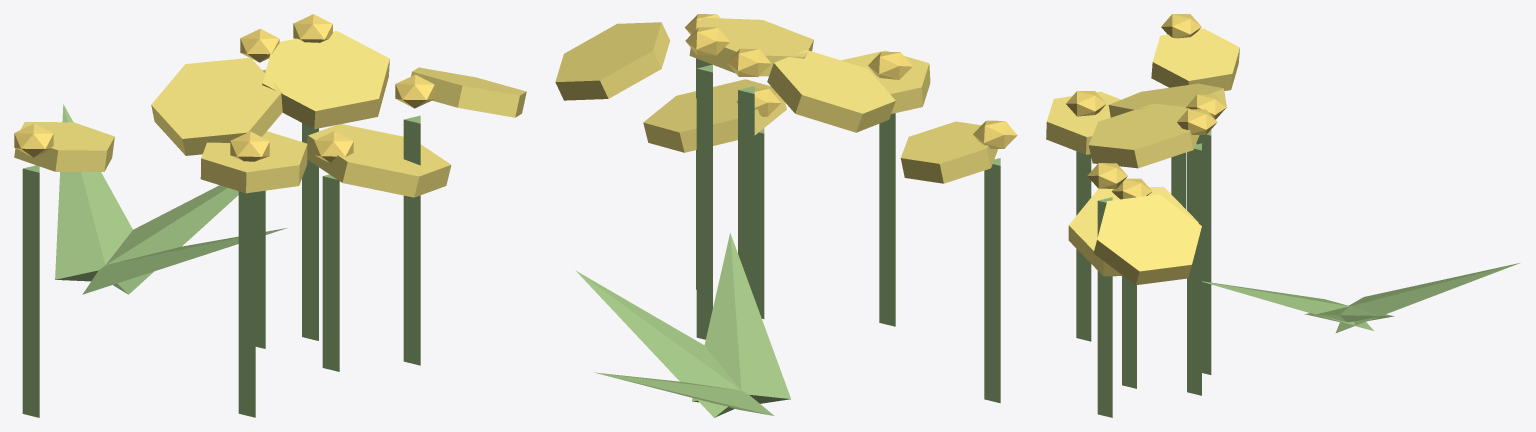
The model's file is flor_amarela_0.fbx.
3 views of the same model, side by side, from view 1: azimuth 30°, elevation 25°; view 2: azimuth 150°, elevation 25°; view 3: azimuth 270°, elevation 25° (orthographic). The views are drawn at different scales.
Parts seen in each view (by area): view 1: flor_amarela_0~Pétalas 1@petalyellow, flor_amarela_0~Pétalas 3@petalyellow, flor_amarela_0~Folha 2@stem, flor_amarela_0~Pétalas 2@petalyellow, flor_amarela_0~Haste 4@stem, flor_amarela_0~Pétalas 0@petalyellow, flor_amarela_0~Folha 0@stem, flor_amarela_0~Haste 0@stem, flor_amarela_0~Haste 5@stem, flor_amarela_0~Haste 2@stem, flor_amarela_0~Pétalas 4@petalyellow, flor_amarela_0~Pétalas 5@petalyellow (+9 smaller); view 2: flor_amarela_0~Folha 1@stem, flor_amarela_0~Pétalas 3@petalyellow, flor_amarela_0~Pétalas 5@petalyellow, flor_amarela_0~Folha 0@stem, flor_amarela_0~Pétalas 2@petalyellow, flor_amarela_0~Haste 1@stem, flor_amarela_0~Pétalas 4@petalyellow, flor_amarela_0~Haste 4@stem, flor_amarela_0~Haste 0@stem, flor_amarela_0~Pétalas 1@petalyellow, flor_amarela_0~Haste 3@stem, flor_amarela_0~Folha 2@stem (+7 smaller); view 3: flor_amarela_0~Pétalas 5@petalyellow, flor_amarela_0~Pétalas 1@petalyellow, flor_amarela_0~Pétalas 4@petalyellow, flor_amarela_0~Haste 1@stem, flor_amarela_0~Haste 5@stem, flor_amarela_0~Haste 3@stem, flor_amarela_0~Folha 2@stem, flor_amarela_0~Pétalas 0@petalyellow, flor_amarela_0~Pétalas 2@petalyellow, flor_amarela_0~Haste 0@stem, flor_amarela_0~Pétalas 3@petalyellow, flor_amarela_0~Haste 2@stem (+9 smaller).
Boxes of the visible parts, x1,y1,x2,y2 form: flor_amarela_0~Pétalas 1@petalyellow: (262,31,389,129); flor_amarela_0~Pétalas 3@petalyellow: (151,57,282,155); flor_amarela_0~Folha 2@stem: (55,104,132,281); flor_amarela_0~Pétalas 2@petalyellow: (306,124,451,197); flor_amarela_0~Haste 4@stem: (22,165,39,417); flor_amarela_0~Pétalas 0@petalyellow: (200,131,307,193); flor_amarela_0~Folha 0@stem: (106,185,238,294); flor_amarela_0~Haste 0@stem: (238,191,255,417); flor_amarela_0~Haste 5@stem: (403,115,420,365); flor_amarela_0~Haste 2@stem: (322,174,339,371); flor_amarela_0~Pétalas 4@petalyellow: (14,122,114,171); flor_amarela_0~Pétalas 5@petalyellow: (411,67,526,117); flor_amarela_0~Folha 1@stem: (691,233,790,403); flor_amarela_0~Pétalas 3@petalyellow: (767,50,895,132); flor_amarela_0~Pétalas 5@petalyellow: (555,22,670,100); flor_amarela_0~Folha 0@stem: (575,270,740,417); flor_amarela_0~Pétalas 2@petalyellow: (643,79,786,152); flor_amarela_0~Haste 1@stem: (696,64,712,339); flor_amarela_0~Pétalas 4@petalyellow: (900,121,997,183); flor_amarela_0~Haste 4@stem: (984,158,1000,403); flor_amarela_0~Haste 0@stem: (879,113,895,326); flor_amarela_0~Pétalas 1@petalyellow: (689,17,813,76); flor_amarela_0~Haste 3@stem: (738,86,754,298); flor_amarela_0~Folha 2@stem: (595,372,773,415); flor_amarela_0~Pétalas 5@petalyellow: (1093,194,1201,285); flor_amarela_0~Pétalas 1@petalyellow: (1088,103,1199,168); flor_amarela_0~Pétalas 4@petalyellow: (1151,28,1239,90); flor_amarela_0~Haste 1@stem: (1187,143,1201,395); flor_amarela_0~Haste 5@stem: (1097,197,1112,417); flor_amarela_0~Haste 3@stem: (1196,130,1211,374); flor_amarela_0~Folha 2@stem: (1335,263,1519,333); flor_amarela_0~Pétalas 0@petalyellow: (1046,91,1120,154); flor_amarela_0~Pétalas 2@petalyellow: (1068,186,1198,276); flor_amarela_0~Haste 0@stem: (1076,151,1091,341); flor_amarela_0~Pétalas 3@petalyellow: (1108,83,1226,117); flor_amarela_0~Haste 2@stem: (1122,276,1136,388).
Size of the model in its own units: 0.5462 by 0.3405 by 0.5233.
